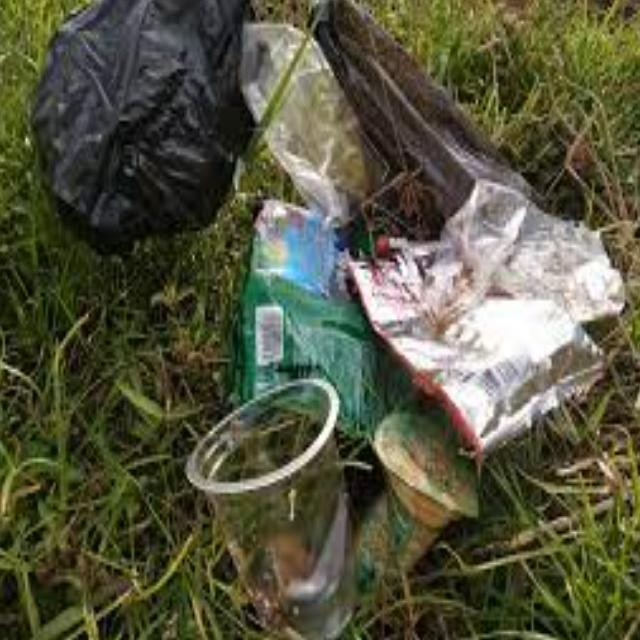GelasPlastik: (188, 374, 377, 638), (354, 403, 484, 606)
